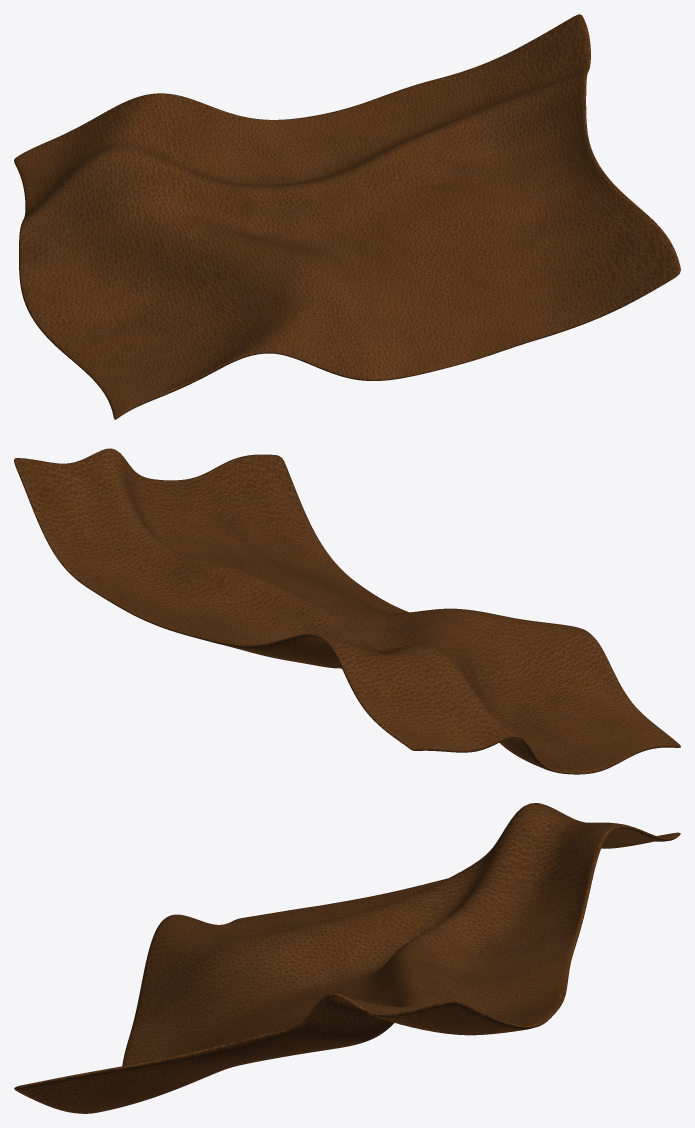
File: cuero_bovino_v002_candidate.glb
3 renders of one model, top to bottom at view 1: azimuth 30°, elevation 25°; view 2: azimuth 150°, elevation 25°; view 3: azimuth 270°, elevation 25°, orthographic. The views are drawn at different scales.
Parts seen in each view (by area): view 1: Vegetable tanned bovino naturally folded hide; view 2: Vegetable tanned bovino naturally folded hide; view 3: Vegetable tanned bovino naturally folded hide.
Boxes of the visible parts, x1,y1,x2,y2 form: Vegetable tanned bovino naturally folded hide: (14,14,680,419); Vegetable tanned bovino naturally folded hide: (14,448,680,774); Vegetable tanned bovino naturally folded hide: (14,803,680,1113).
Size of the model in its own units: 0.6203 by 0.221 by 0.5242.
1 material, 1 textured.
